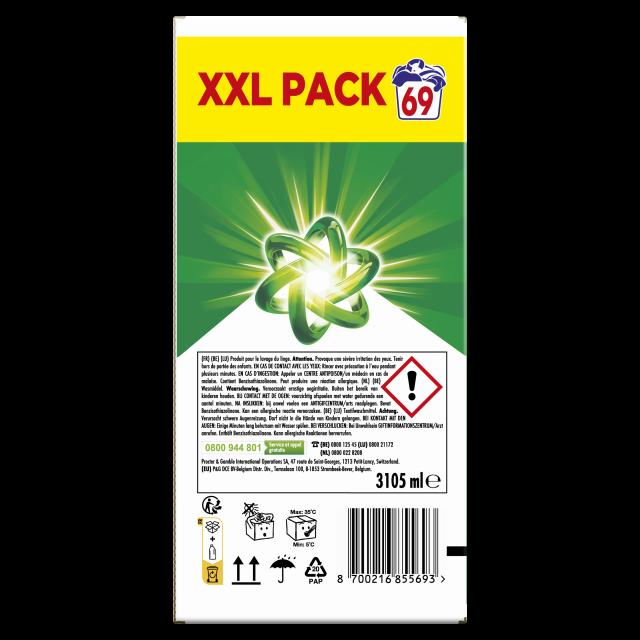GHS_Symbol_EXCLAMATION_MARK: (379, 355, 442, 419)
